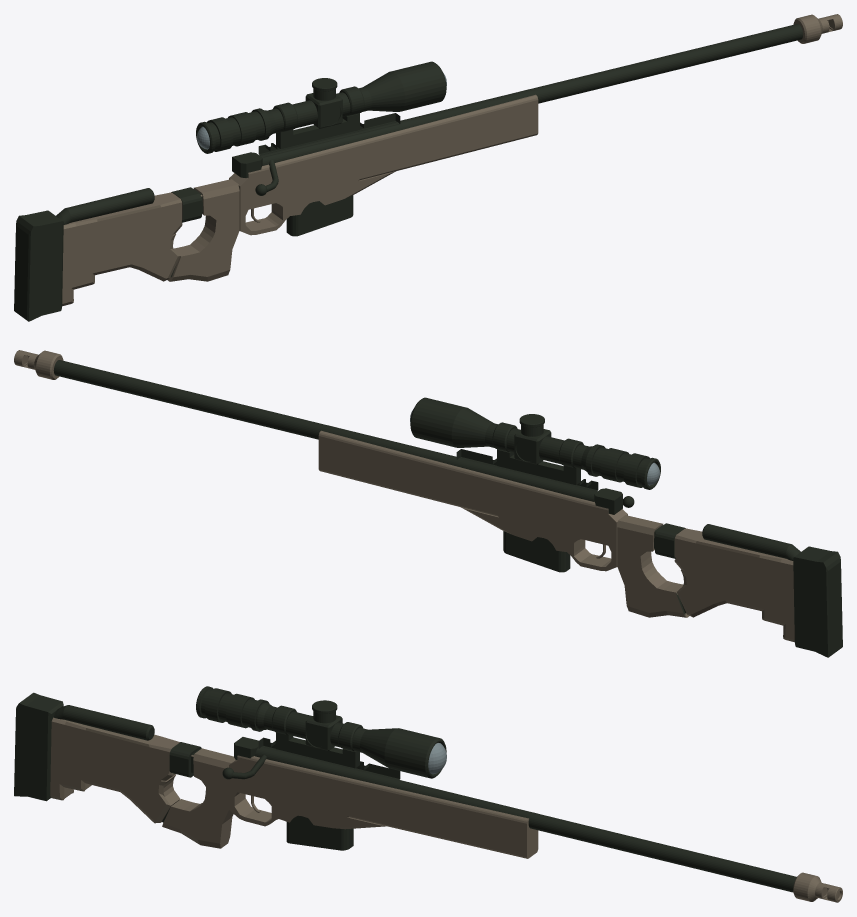
The model's file is AWM.fbx.
The picture shows the model from 3 angles, top to bottom: view 1: azimuth 30°, elevation 25°; view 2: azimuth 150°, elevation 25°; view 3: azimuth 330°, elevation 25°; orthographic projection.
Parts seen in each view (by area): view 1: Cube.004, Cube, Cylinder, Cylinder.002, Cube.002, Cube.001, Cube.006, Cube.008, Cylinder.001, Cylinder.005, Cube.005, Cube.007 (+2 smaller); view 2: Cube.004, Cube, Cylinder, Cylinder.002, Cube.002, Cube.001, Cube.006, Cube.008, Cylinder.001, Cylinder.005, Cube.005, Cube.007 (+2 smaller); view 3: Cube.004, Cube, Cylinder, Cylinder.002, Cube.001, Cube.002, Cube.006, Cylinder.001, Cube.008, Cylinder.005, Cube.005, Cube.007 (+4 smaller).
Part boxes in pixels (box(x1,y1,x2,y2)): Cube.004: box(229, 94, 538, 235); Cube: box(62, 192, 182, 306); Cylinder: box(259, 24, 803, 165); Cylinder.002: box(196, 61, 446, 153); Cube.002: box(14, 210, 63, 321); Cube.001: box(167, 179, 239, 281); Cube.006: box(273, 86, 364, 148); Cube.008: box(286, 195, 353, 236); Cylinder.001: box(56, 188, 154, 224); Cylinder.005: box(793, 14, 842, 43); Cube.005: box(258, 113, 400, 157); Cube.007: box(305, 93, 342, 128); Cube.004: box(318, 430, 627, 571); Cube: box(674, 528, 794, 642); Cylinder: box(53, 360, 597, 501); Cylinder.002: box(410, 397, 660, 489); Cube.002: box(793, 546, 842, 657); Cube.001: box(617, 515, 689, 617); Cube.006: box(492, 422, 583, 484); Cube.008: box(503, 531, 570, 572); Cylinder.001: box(702, 524, 800, 560); Cylinder.005: box(14, 350, 63, 379); Cube.005: box(456, 449, 598, 493); Cube.007: box(514, 429, 551, 464); Cube.004: box(229, 755, 538, 858); Cube: box(50, 717, 180, 823); Cylinder: box(255, 746, 796, 892); Cylinder.002: box(196, 686, 446, 778); Cube.001: box(162, 748, 235, 848); Cube.002: box(14, 692, 63, 801); Cube.006: box(271, 705, 363, 768); Cylinder.001: box(54, 705, 154, 740); Cube.008: box(286, 815, 353, 850); Cylinder.005: box(793, 872, 842, 902); Cube.005: box(258, 737, 400, 782); Cube.007: box(305, 715, 342, 750).
Bounding box in the file's own units: 1436 × 279 × 90.51.
